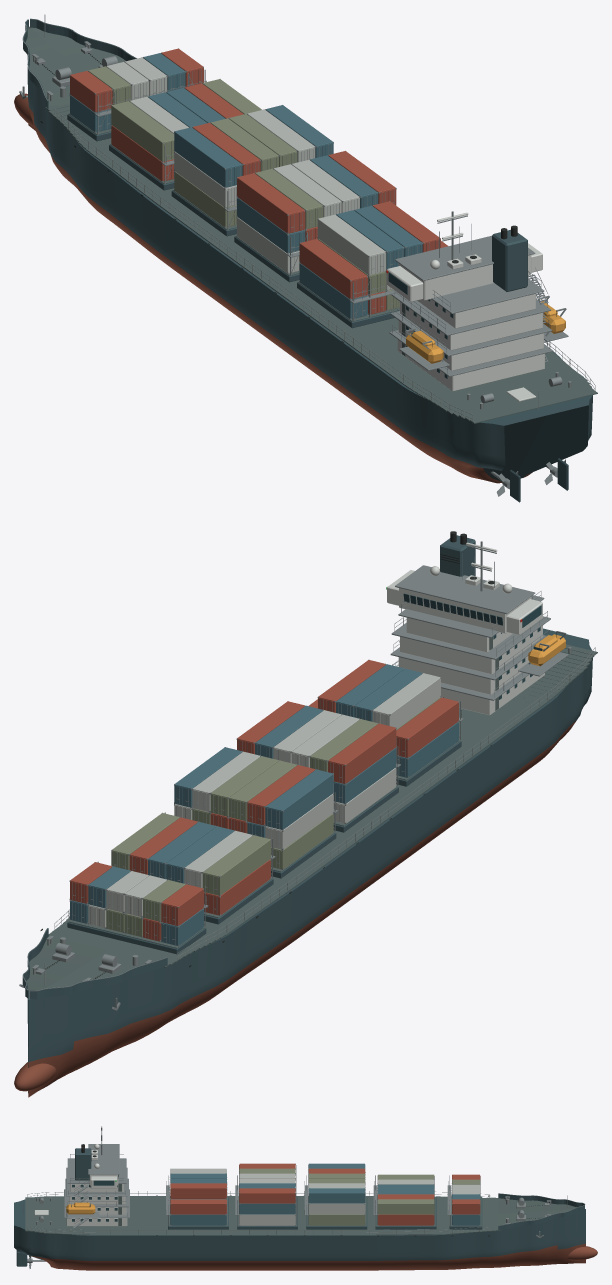
File: CargoShipNative.fbx
The picture shows the model from 3 angles, top to bottom: view 1: azimuth 30°, elevation 25°; view 2: azimuth 150°, elevation 25°; view 3: azimuth 270°, elevation 25°; orthographic projection. The views are drawn at different scales.
Parts seen in each view (by area): view 1: Accommodation_LOD0, WeatherDeck_LOD0, CargoBay1_LOD0, CargoBay0_LOD0, CargoBay2_LOD0, HullSternPort_LOD0, CargoBay3_LOD0, HullMidPort_LOD0, CargoBay4_LOD0, HullAftPort_LOD0, HullBowPort_LOD0, Forecastle_LOD0 (+2 smaller); view 2: Accommodation_LOD0, HullBowPort_LOD0, CargoBay2_LOD0, WeatherDeck_LOD0, CargoBay1_LOD0, CargoBay3_LOD0, CargoBay0_LOD0, CargoBay4_LOD0, HullMidPort_LOD0, HullAftPort_LOD0, Forecastle_LOD0, HullSternPort_LOD0; view 3: HullBowStarboard_LOD0, WeatherDeck_LOD0, Accommodation_LOD0, HullMidStarboard_LOD0, HullAftStarboard_LOD0, HullSternStarboard_LOD0, CargoBay2_LOD0, CargoBay1_LOD0, CargoBay0_LOD0, CargoBay3_LOD0, Forecastle_LOD0, CargoBay4_LOD0 (+1 smaller).
Boxes of the visible parts, left/top/right/bottom form: Accommodation_LOD0: left=386, top=211, right=568, bottom=391; WeatherDeck_LOD0: left=40, top=103, right=597, bottom=423; CargoBay1_LOD0: left=234, top=150, right=396, bottom=282; CargoBay0_LOD0: left=297, top=201, right=448, bottom=328; CargoBay2_LOD0: left=171, top=105, right=333, bottom=236; HullSternPort_LOD0: left=359, top=354, right=546, bottom=483; CargoBay3_LOD0: left=109, top=79, right=261, bottom=190; HullMidPort_LOD0: left=134, top=188, right=260, bottom=333; CargoBay4_LOD0: left=67, top=48, right=206, bottom=141; HullAftPort_LOD0: left=250, top=274, right=370, bottom=413; HullBowPort_LOD0: left=14, top=56, right=144, bottom=247; Forecastle_LOD0: left=19, top=14, right=137, bottom=108; Accommodation_LOD0: left=386, top=531, right=568, bottom=715; HullBowPort_LOD0: left=14, top=898, right=281, bottom=1097; CargoBay2_LOD0: left=174, top=747, right=338, bottom=878; WeatherDeck_LOD0: left=40, top=644, right=597, bottom=967; CargoBay1_LOD0: left=236, top=701, right=400, bottom=832; CargoBay3_LOD0: left=111, top=812, right=275, bottom=924; CargoBay0_LOD0: left=308, top=659, right=463, bottom=786; CargoBay4_LOD0: left=67, top=861, right=208, bottom=954; HullMidPort_LOD0: left=270, top=812, right=399, bottom=957; HullAftPort_LOD0: left=389, top=733, right=508, bottom=871; Forecastle_LOD0: left=19, top=928, right=167, bottom=1010; HullSternPort_LOD0: left=498, top=629, right=592, bottom=791; HullBowStarboard_LOD0: left=387, top=1209, right=585, bottom=1270; WeatherDeck_LOD0: left=25, top=1191, right=500, bottom=1236; Accommodation_LOD0: left=64, top=1126, right=129, bottom=1228; HullMidStarboard_LOD0: left=258, top=1235, right=387, bottom=1270; HullAftStarboard_LOD0: left=138, top=1235, right=258, bottom=1270; HullSternStarboard_LOD0: left=14, top=1214, right=138, bottom=1270; CargoBay2_LOD0: left=304, top=1163, right=367, bottom=1229; CargoBay1_LOD0: left=235, top=1163, right=297, bottom=1229; CargoBay0_LOD0: left=166, top=1168, right=228, bottom=1229; CargoBay3_LOD0: left=373, top=1174, right=436, bottom=1229; Forecastle_LOD0: left=498, top=1193, right=585, bottom=1237; CargoBay4_LOD0: left=447, top=1174, right=482, bottom=1229.
Size of what is drawn, in the model's own units: 2060 by 3145 by 12660.
